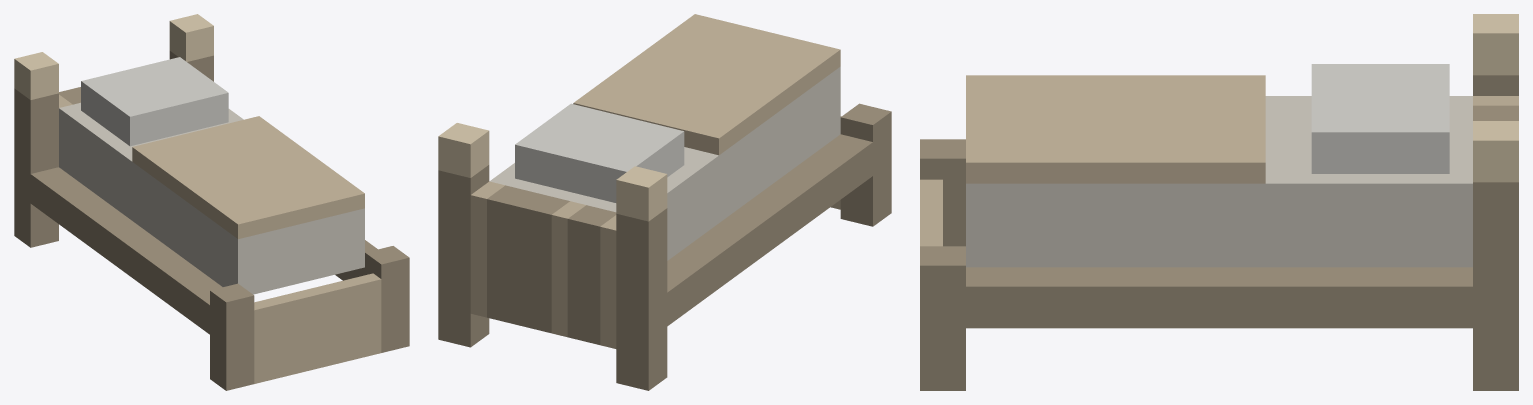
Rendered from cama_individual_haya_01.glb.
3 renders of one model, left to right at view 1: azimuth 30°, elevation 25°; view 2: azimuth 150°, elevation 25°; view 3: azimuth 270°, elevation 25°, orthographic. The views are drawn at different scales.
Visible parts, largest first — view 1: cama_individual_haya; view 2: cama_individual_haya; view 3: cama_individual_haya.
Part boxes in pixels (box(x1,y1,x2,y2)): cama_individual_haya: box(14, 14, 409, 390); cama_individual_haya: box(438, 14, 891, 390); cama_individual_haya: box(920, 14, 1518, 390).
Size of the model in its own units: 1 by 0.9231 by 2.
